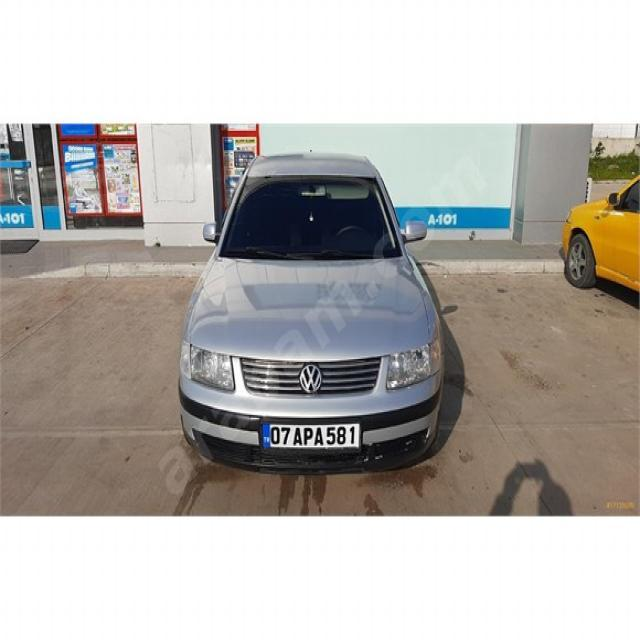plate: (258, 419, 362, 459)
